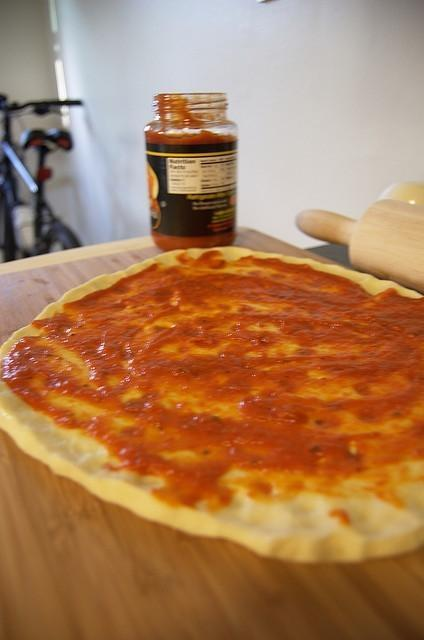bicycle: (2, 97, 91, 255)
